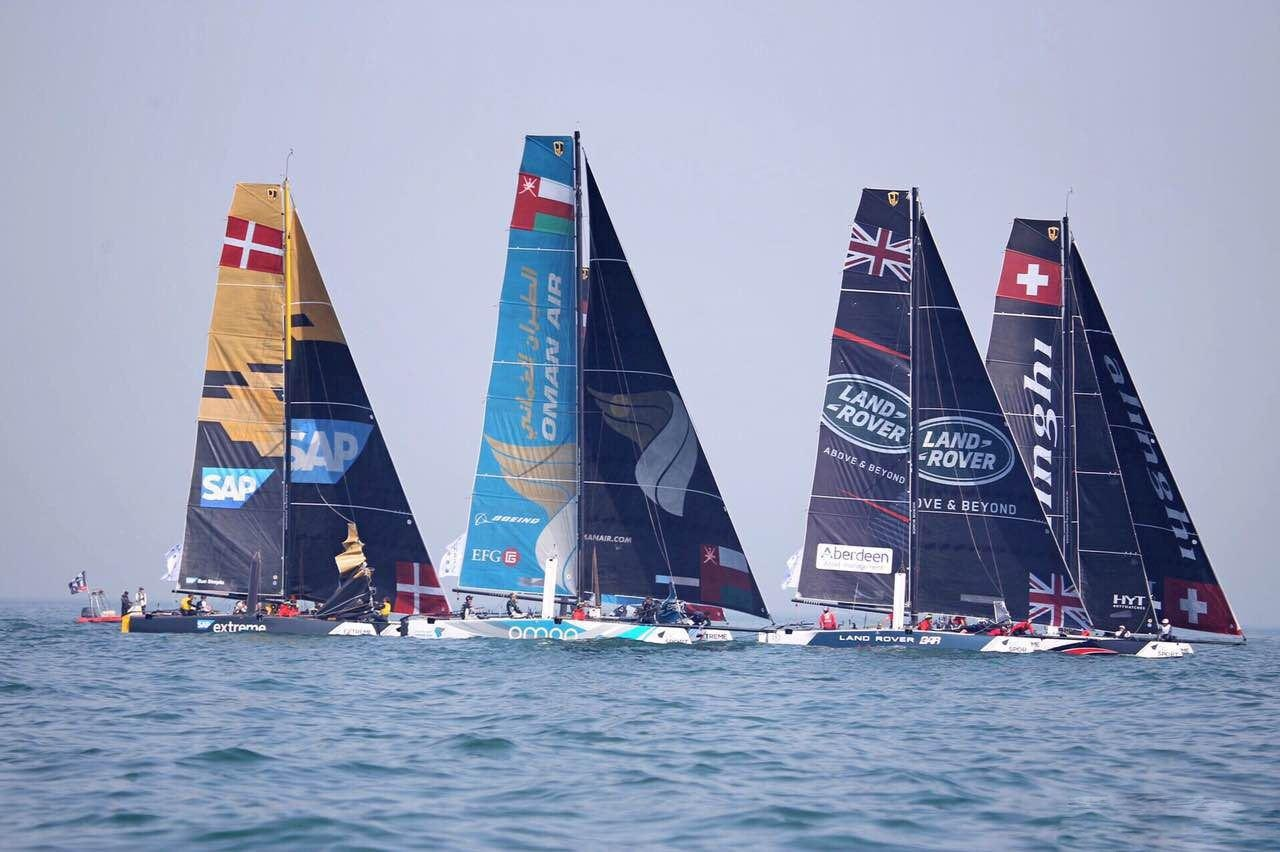fanchuan: (450, 129, 782, 649), (128, 157, 459, 645), (952, 213, 1256, 651), (789, 180, 1065, 644)
